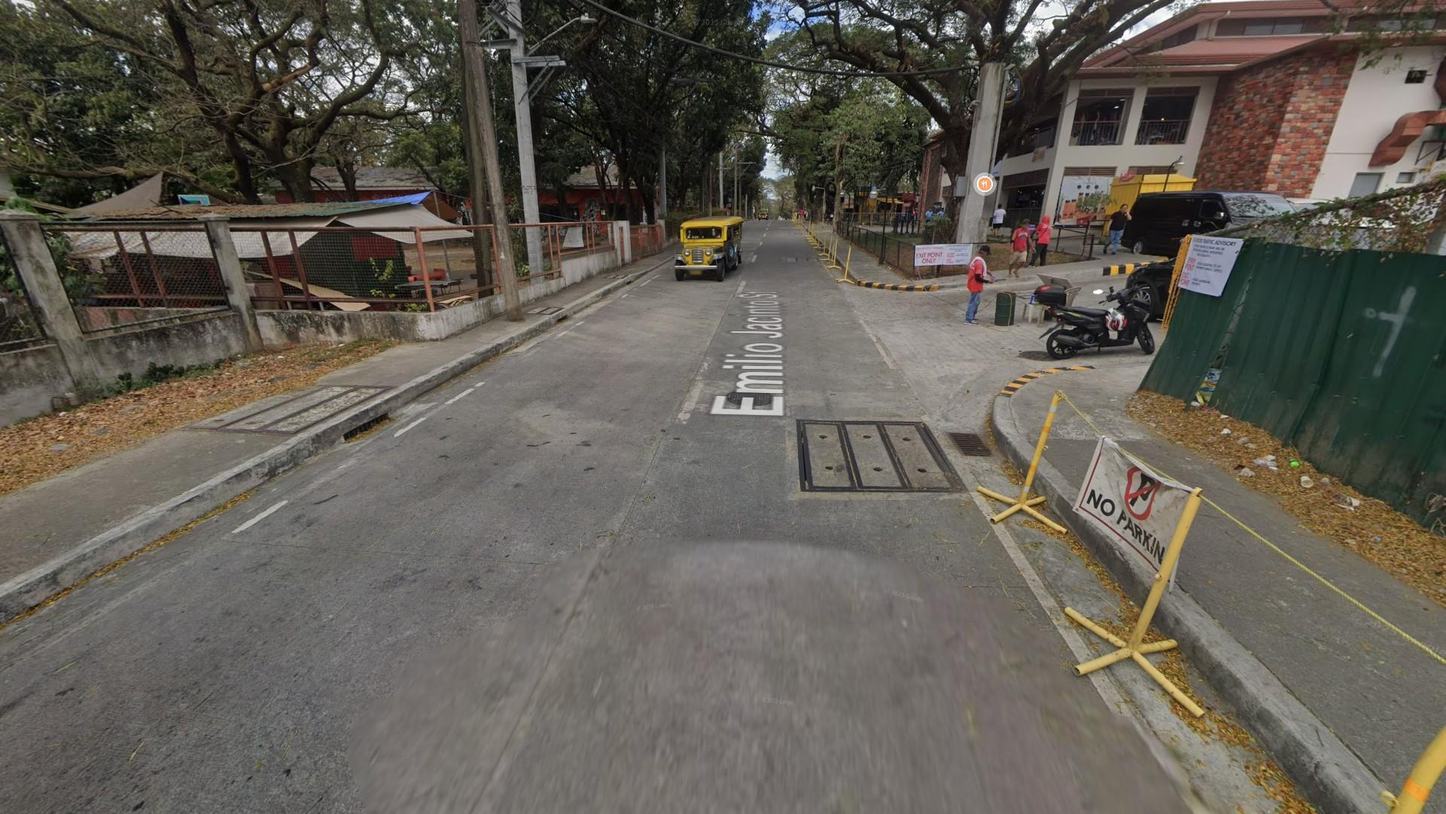pedestrian: (964, 244, 994, 325), (1007, 216, 1036, 279), (1103, 203, 1132, 255), (1030, 215, 1052, 268), (990, 203, 1008, 237), (936, 205, 947, 234), (923, 206, 934, 234), (826, 209, 835, 227), (799, 207, 804, 220), (803, 209, 808, 220)
